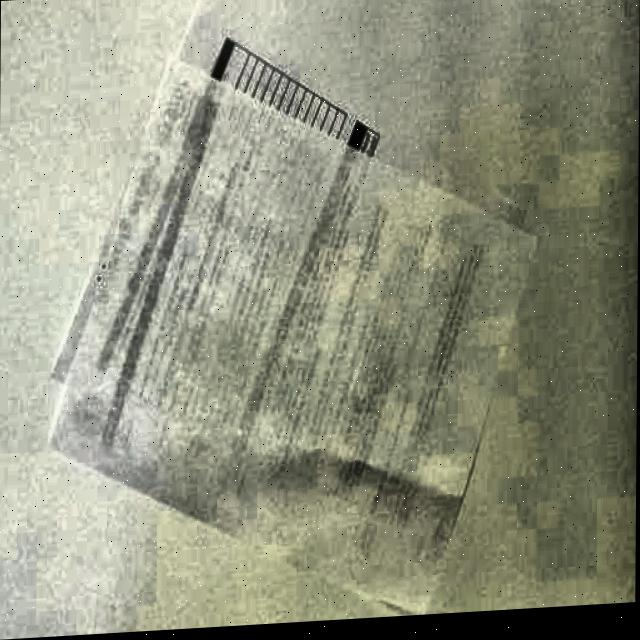paper: (41, 1, 539, 636)
